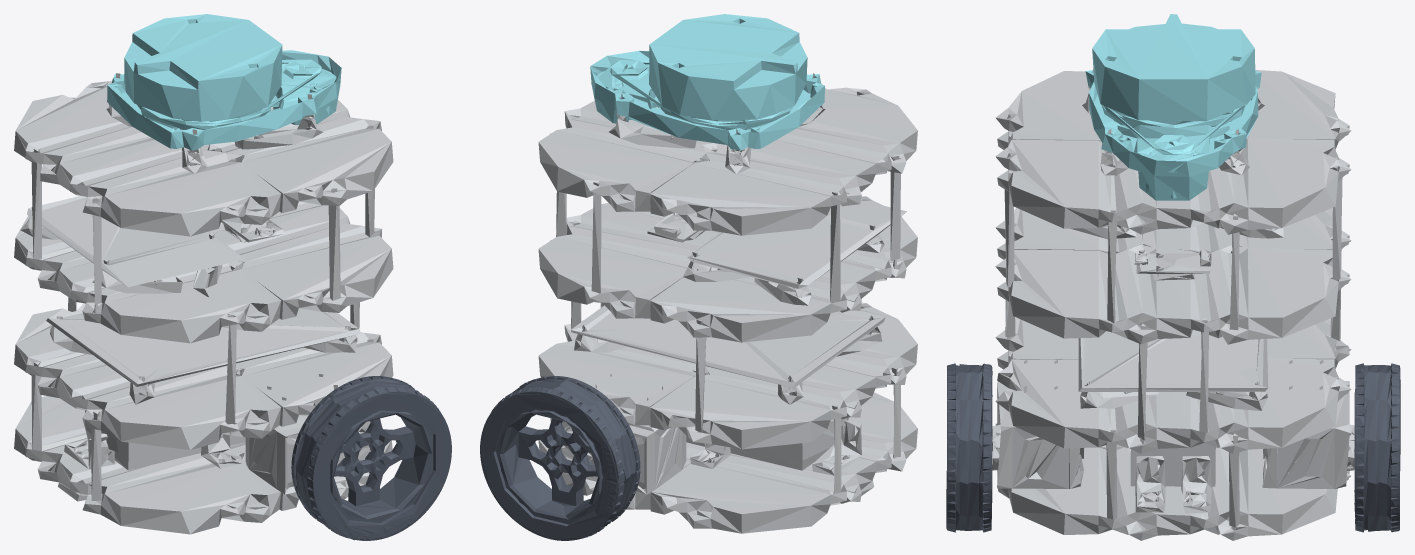
Rendered from turtlebot3_burger.glb.
3 views of the same model, side by side, from view 1: azimuth 30°, elevation 25°; view 2: azimuth 150°, elevation 25°; view 3: azimuth 270°, elevation 25° (orthographic). The views are drawn at different scales.
Parts seen in each view (by area): view 1: base_link, lidar, wheel_right; view 2: base_link, lidar, wheel_left; view 3: base_link, lidar, wheel_left, wheel_right.
Part boxes in pixels (x1,y1,x2,y2): base_link: (14,73,393,534); lidar: (107,14,341,150); wheel_right: (291,376,451,540); base_link: (538,73,917,533); lidar: (590,14,824,150); wheel_left: (480,376,640,540); base_link: (992,69,1354,540); lidar: (1085,14,1261,200); wheel_left: (1354,363,1400,532); wheel_right: (946,363,992,532).
Size of the model in its own units: 0.1382 by 0.1912 by 0.1782.
